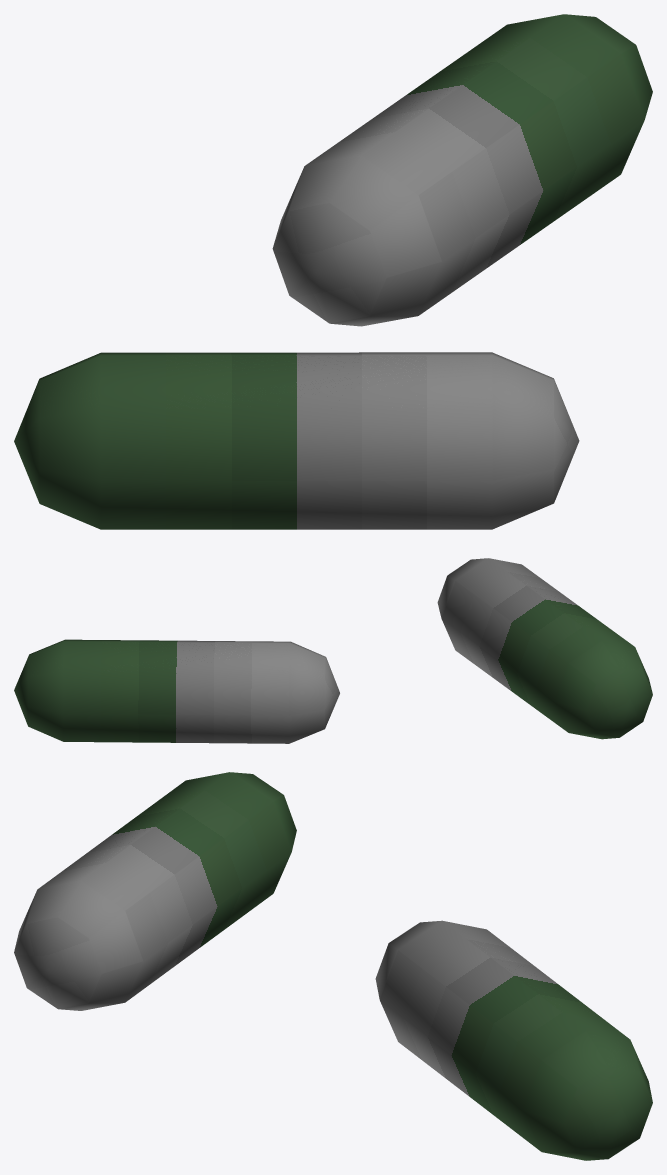
Rendered from pills_2_1.glb.
3 views of the same model, one above another, from view 1: azimuth 30°, elevation 25°; view 2: azimuth 150°, elevation 25°; view 3: azimuth 270°, elevation 25° (orthographic). The views are drawn at different scales.
Parts seen in each view (by area): view 1: pills_2_1; view 2: pills_2_1; view 3: pills_2_1.
Part boxes in pixels (x1=…): pills_2_1: x1=14, y1=14, x2=652, y2=529; pills_2_1: x1=14, y1=558, x2=652, y2=743; pills_2_1: x1=14, y1=772, x2=652, y2=1160.
Bounding box in the file's own units: 0.0726 × 0.014 × 0.0624.
1 material, 1 textured.
